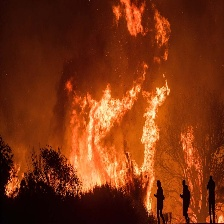fire: (60, 79, 172, 209), (108, 1, 184, 59), (180, 125, 203, 191), (4, 154, 28, 199)
smoke: (3, 1, 75, 139)
